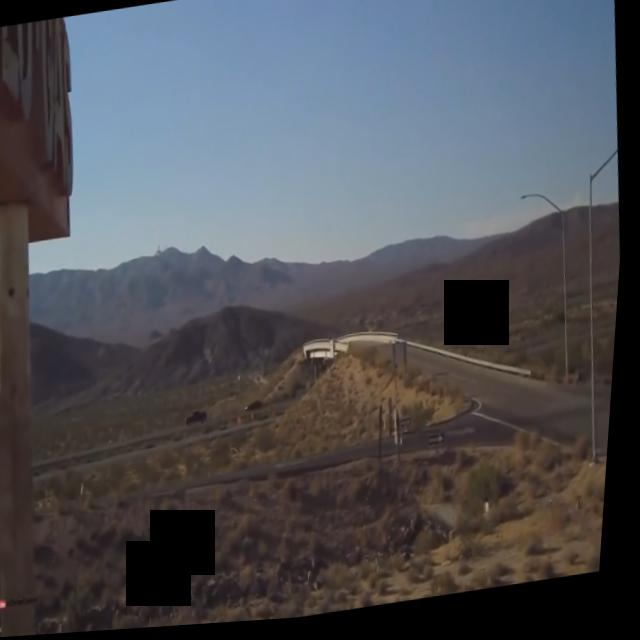Building: (0, 13, 128, 640)
Pole: (567, 152, 630, 475), (512, 190, 588, 394)
